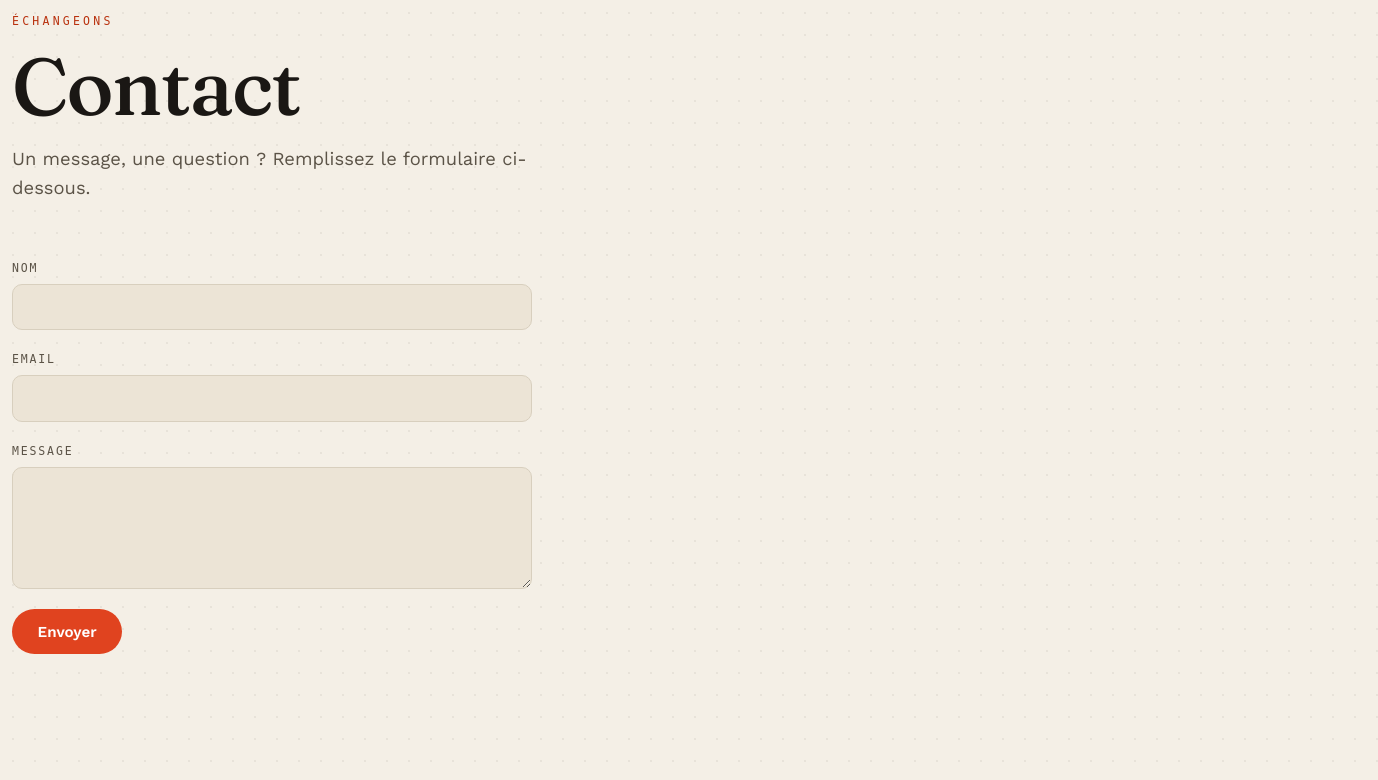
Test: <Contact /> › envoie le payload et affiche le message de succès
Type "Alice" into the field labelled "Nom" at (272, 307), box [12, 284, 532, 330]
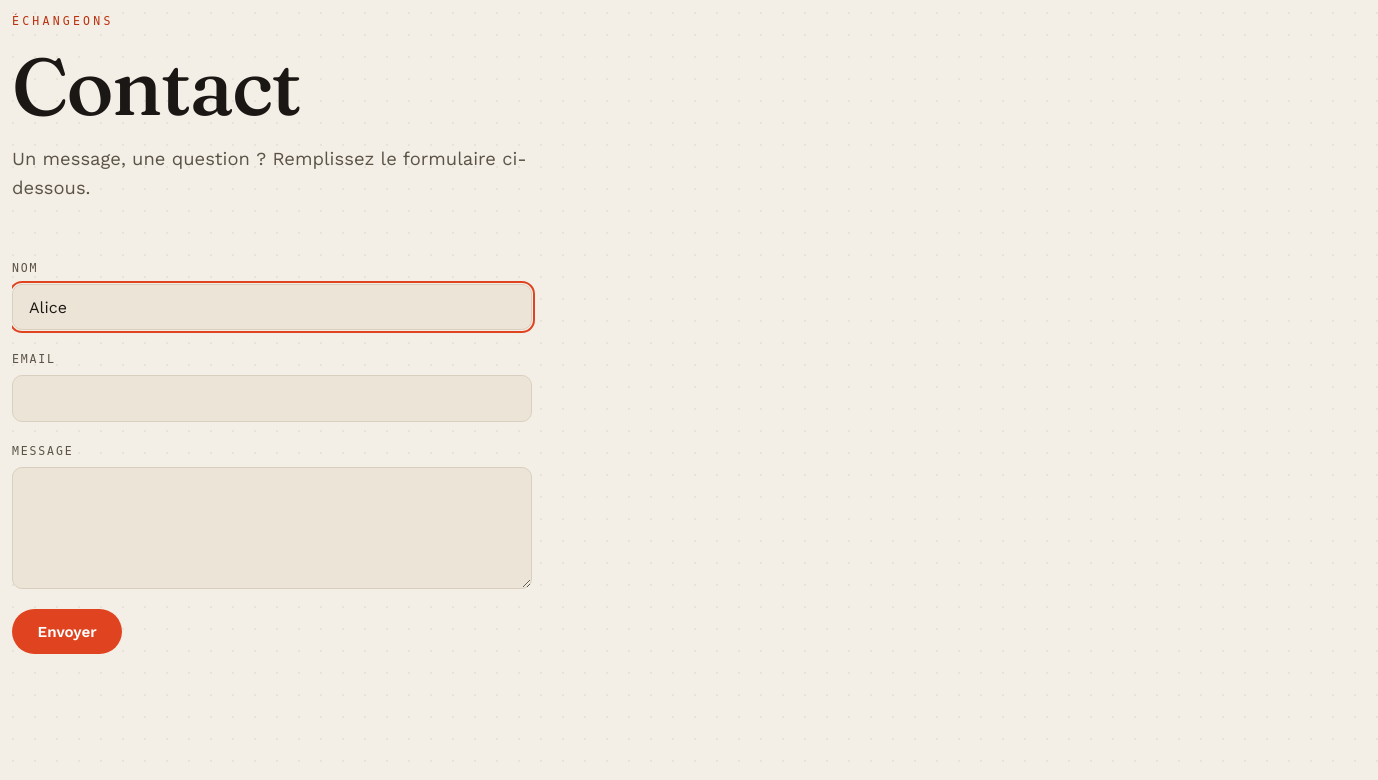
Type "alice@exemple.fr" into the field labelled "Email" at (272, 398), box [12, 375, 532, 422]
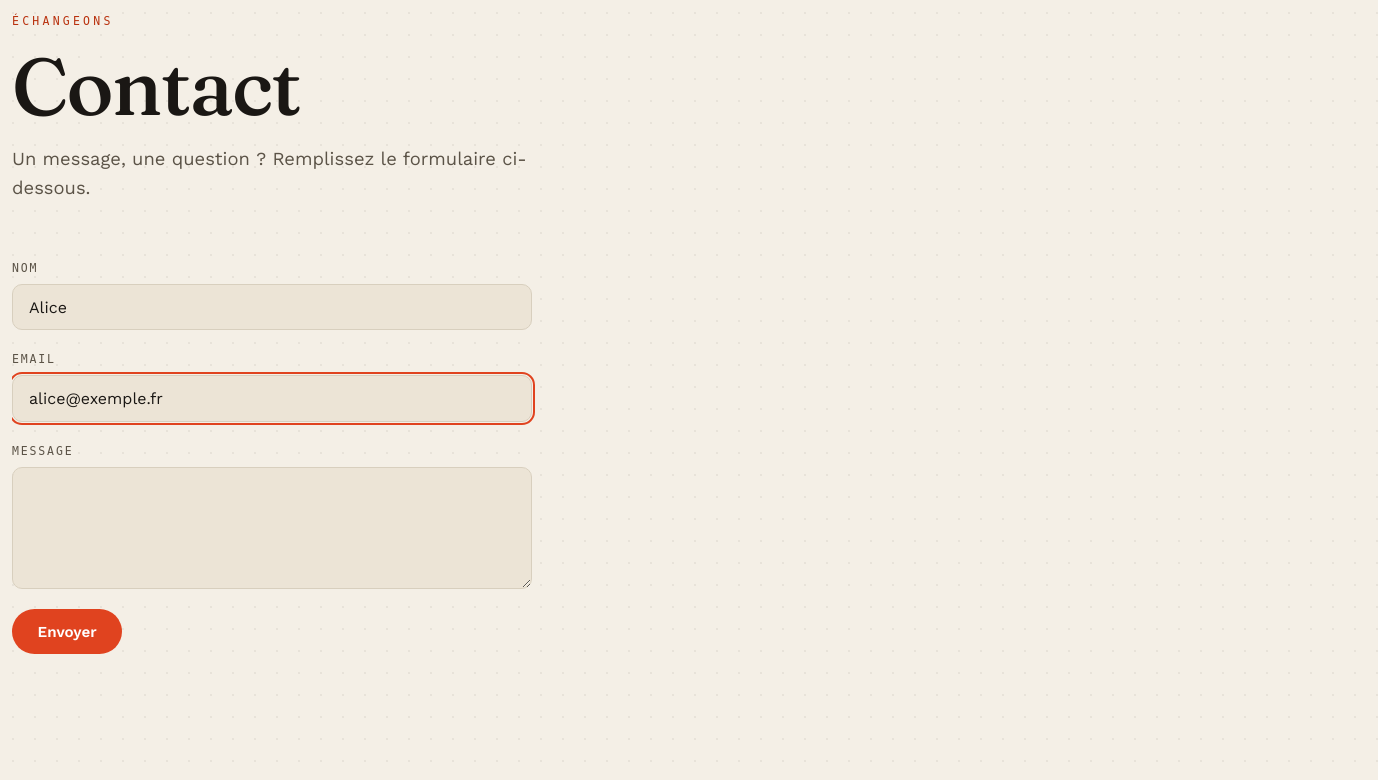
Type "Bonjour !" into the text box labelled "Message" at (272, 528), box [12, 466, 532, 589]
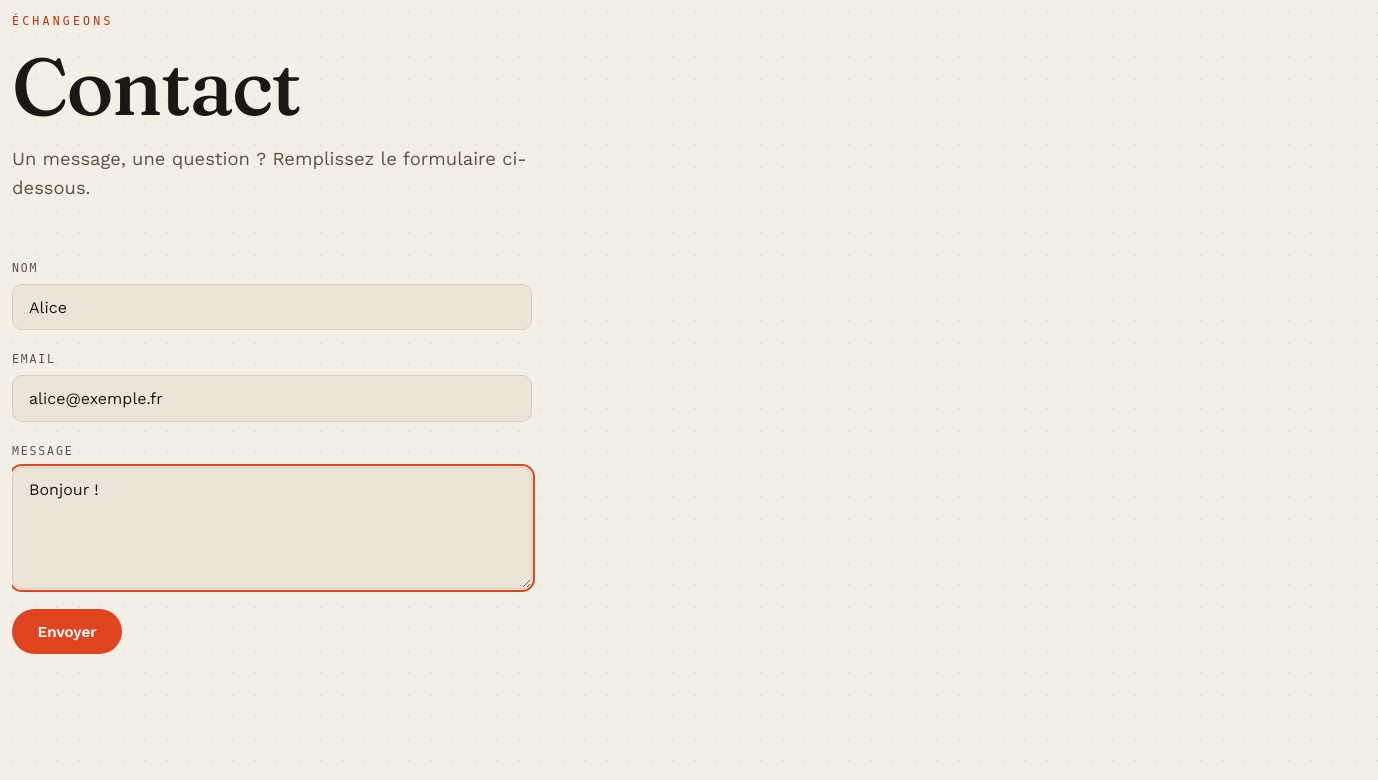
Click the button "Envoyer" at (67, 632), box [12, 609, 122, 654]
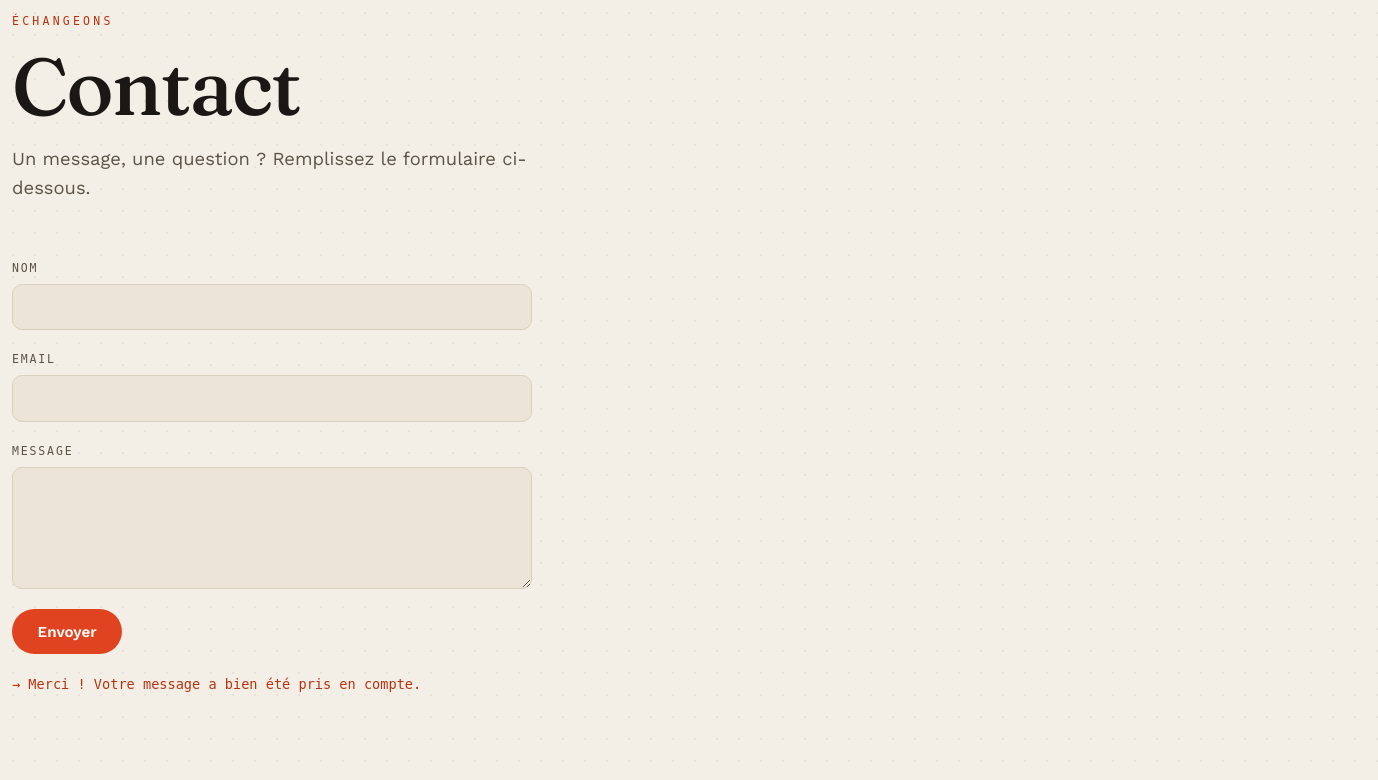
Expected: the text "→ Merci ! Votre message a bien été pris en compte." is shown, [12, 676, 421, 692]
